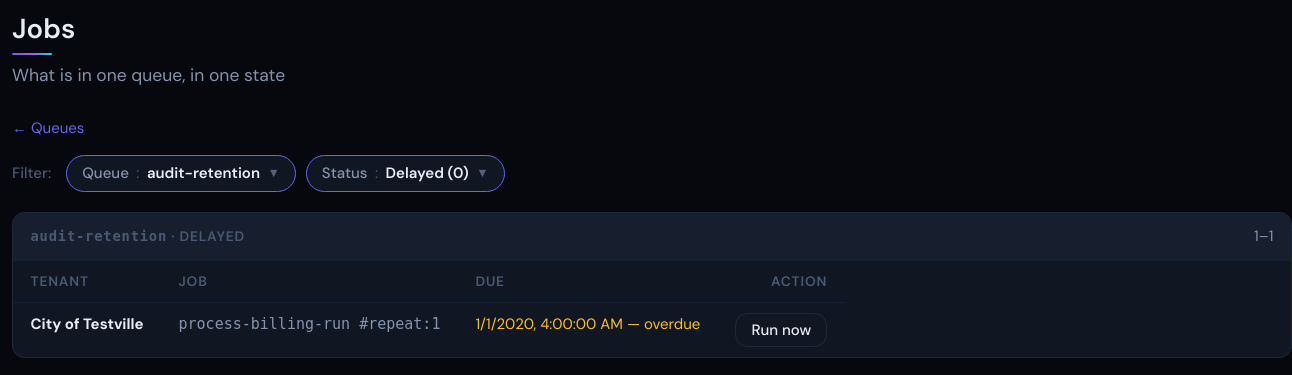
Test: the cluster jobs page › says when an action happened but could not be recorded
Click the button with aria-label "run now job " at (781, 330), box [735,313,827,347]
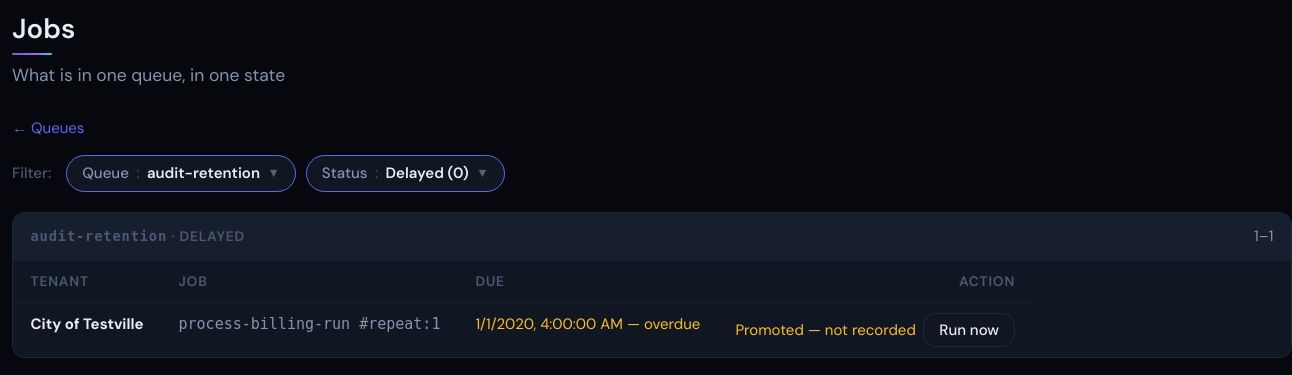
expect the text "Promoted — not recorded" is shown: met, box [735,319,916,341]
